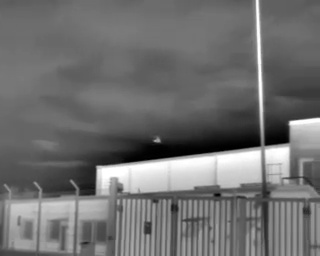HELICOPTER: (150, 133, 168, 147)
